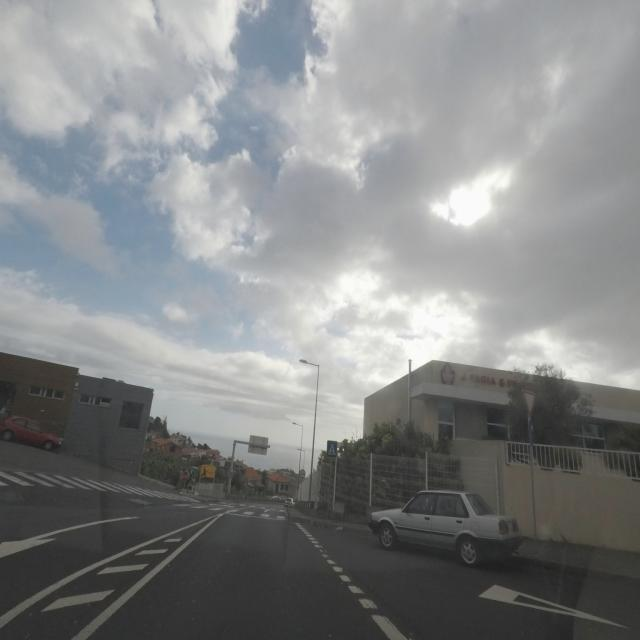car: (368, 488, 522, 568), (0, 414, 64, 452)
